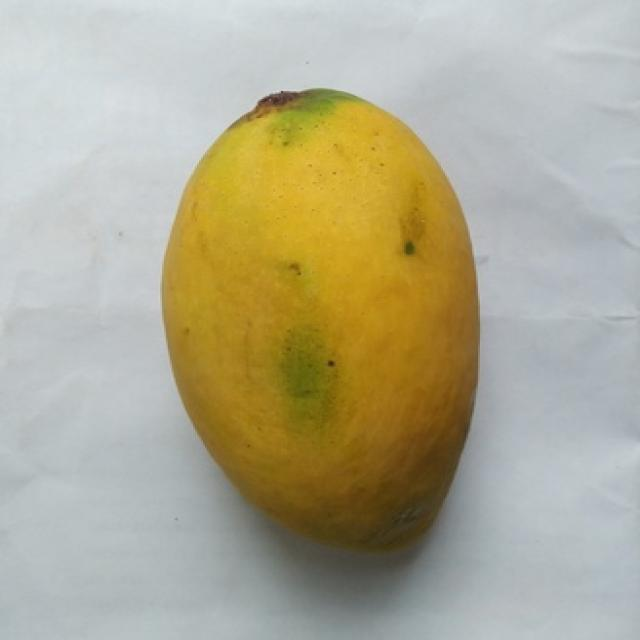Mango: (162, 89, 478, 549)
